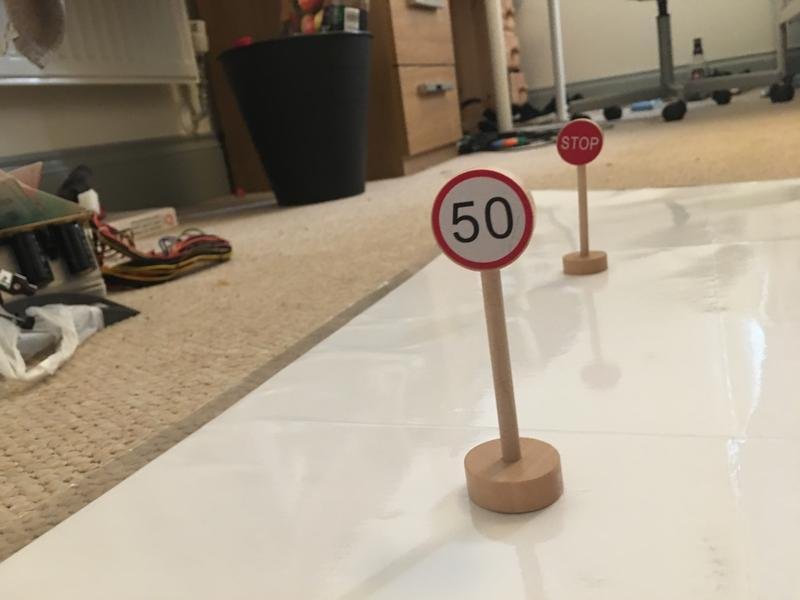Traffic_Sign_50: (428, 168, 535, 272)
Traffic_Sign_Stop: (557, 119, 603, 166)
